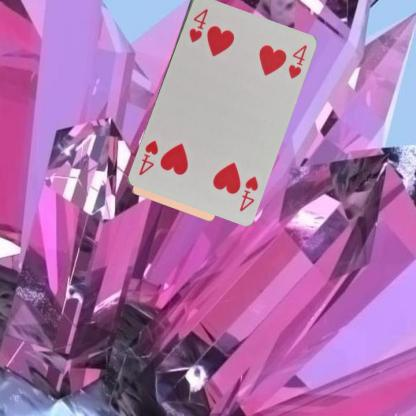4h: (236, 173, 260, 213), (186, 5, 209, 44)
